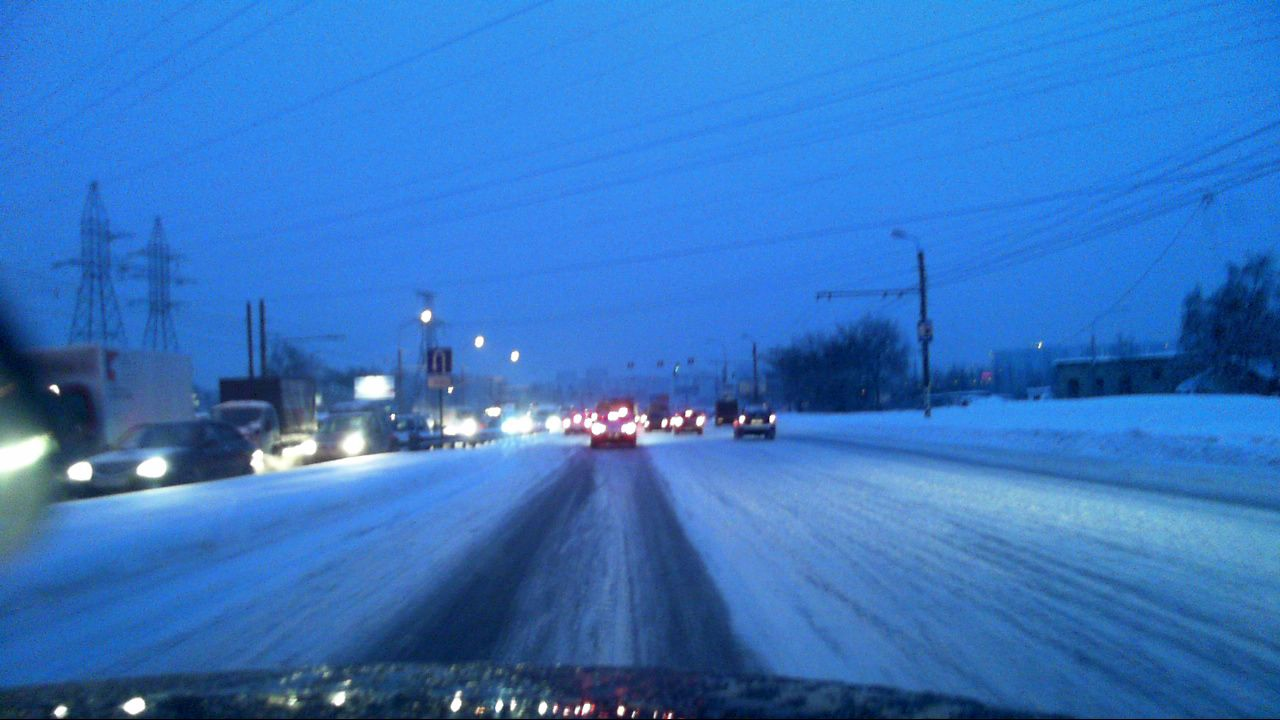U-turn: (426, 348, 451, 374)
